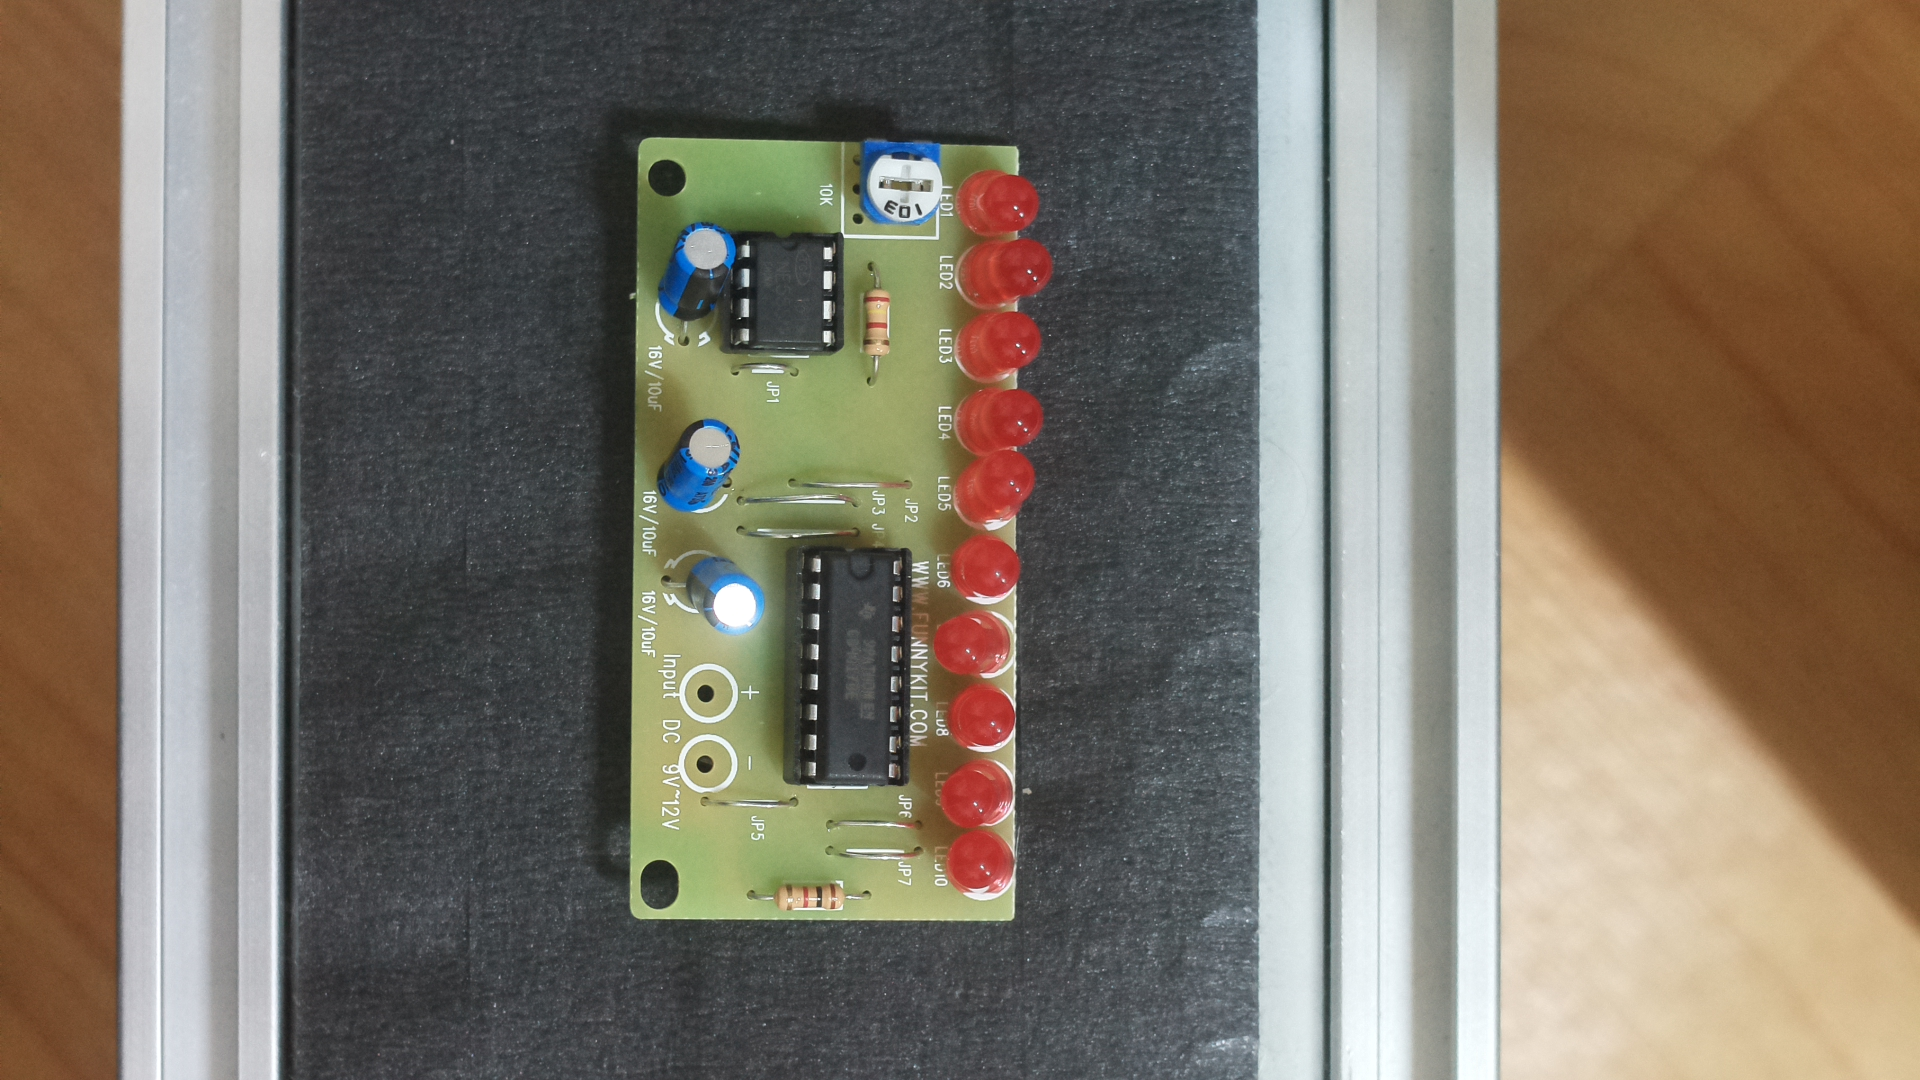B_Normal: (597, 109, 1046, 968)
